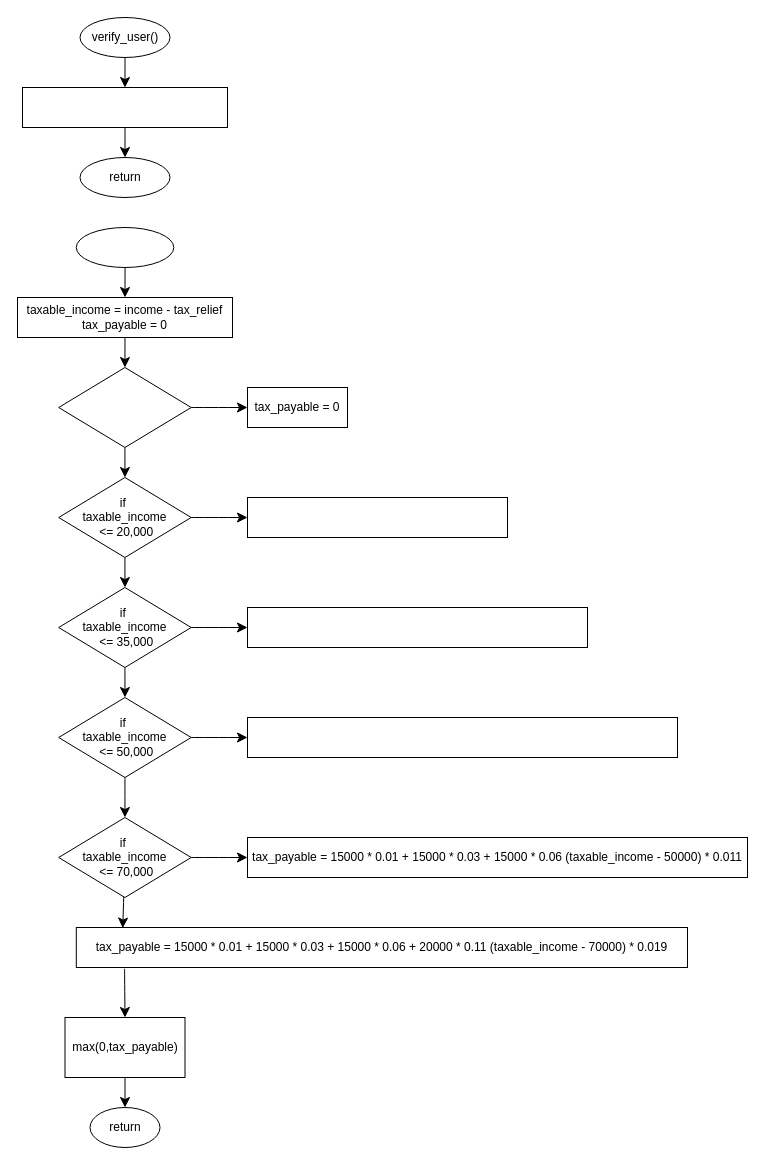
Image size: 765x1165. Some labels were removed from this diagram. The centre of each missing label's shape, as x and y in pixels:
"calculate_tax()" goes at (124,247).
"if taxable_income <= 5,000" goes at (124,407).
"len(ic_number)==12 and password==ic_number[-4:]" goes at (125,107).
"tax_payable = (taxable_income - 5000) * 0.01" goes at (377,517).
"tax_payable = 15000 * 0.01 + (taxable_income - 20000) * 0.03" goes at (417,627).
"tax_payable = 15000 * 0.01 + 15000 * 0.03 + (taxable_income - 35000) * 0.06" goes at (462,737).
